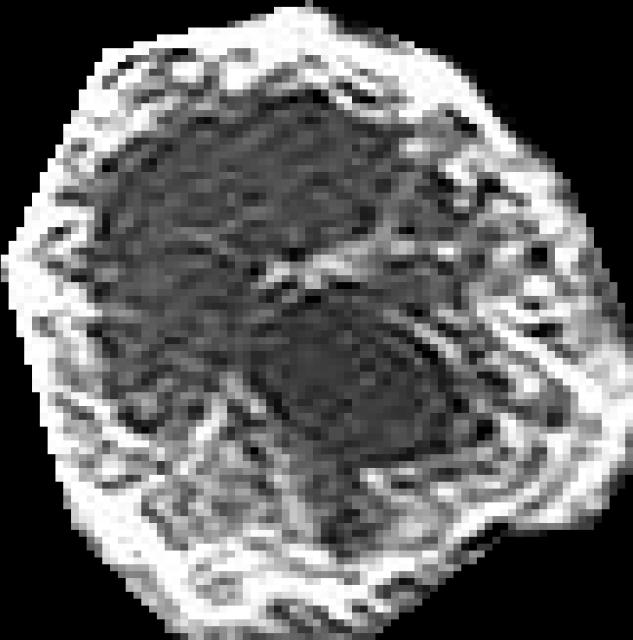tumor_moderate_chance: (1, 0, 633, 640)
